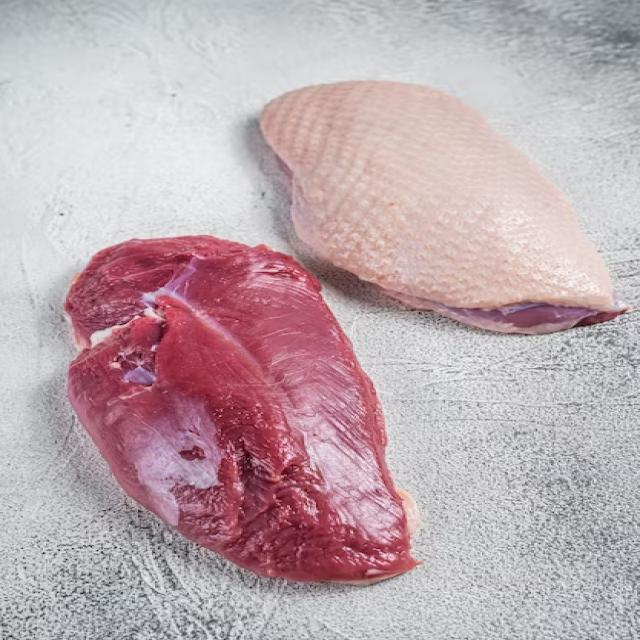duck: (66, 236, 417, 584), (263, 81, 627, 333)
